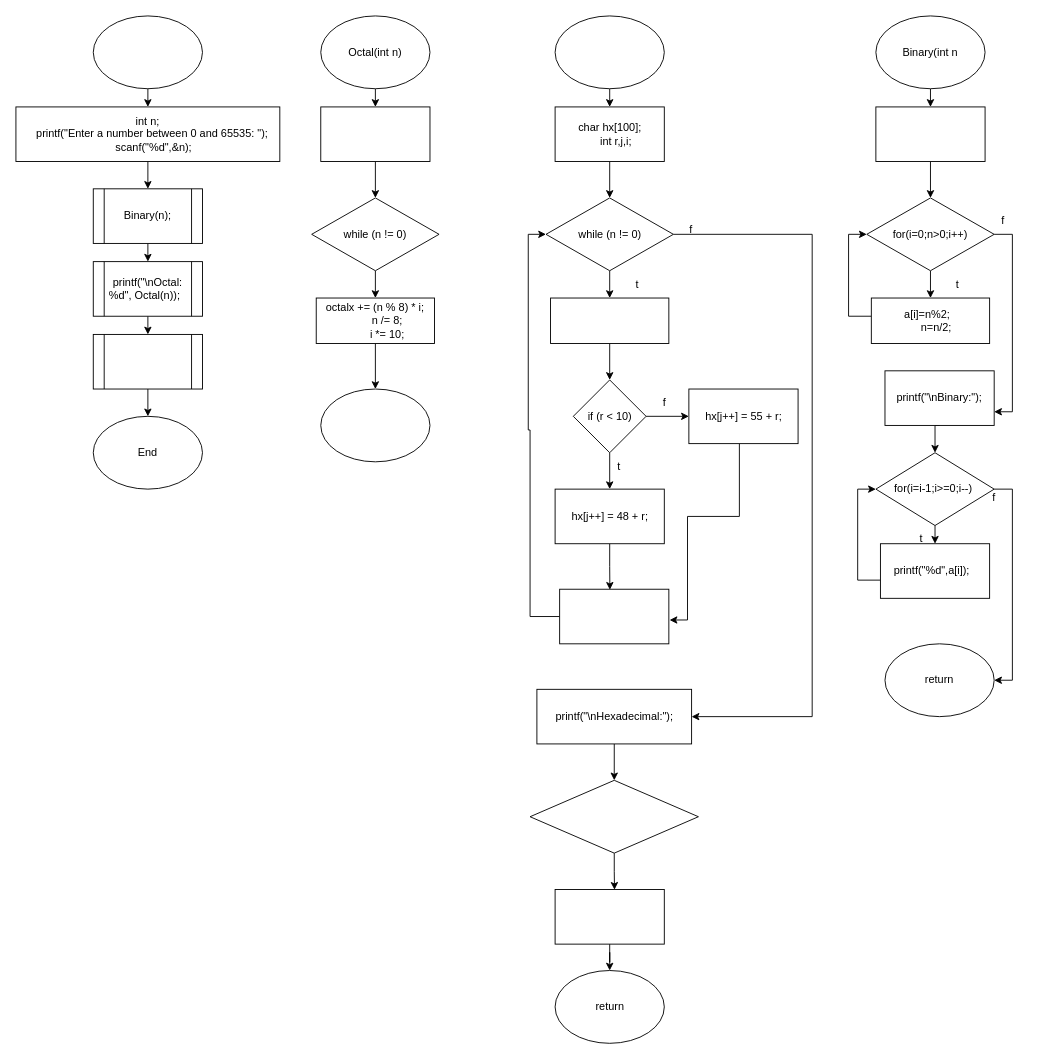
This 1047x1059 diagram has some shape labels left out. Here are the shapes that lost their labels. From the top down, the centre of each, then its label:
the point at 147,52: Start
the point at 609,52: Hexadecimal(int n)
the point at 375,134: int octalx = 0, i = 1;
the point at 930,134: int a[16],i
the point at 609,320: r = n % 16;
the point at 147,361: Hexadecimal( n);
the point at 375,425: return octalx;
the point at 614,616: n = n / 16;
the point at 613,816: for (i = j; i >= 0; i--)
the point at 609,916: printf("%c",hx[i]);
